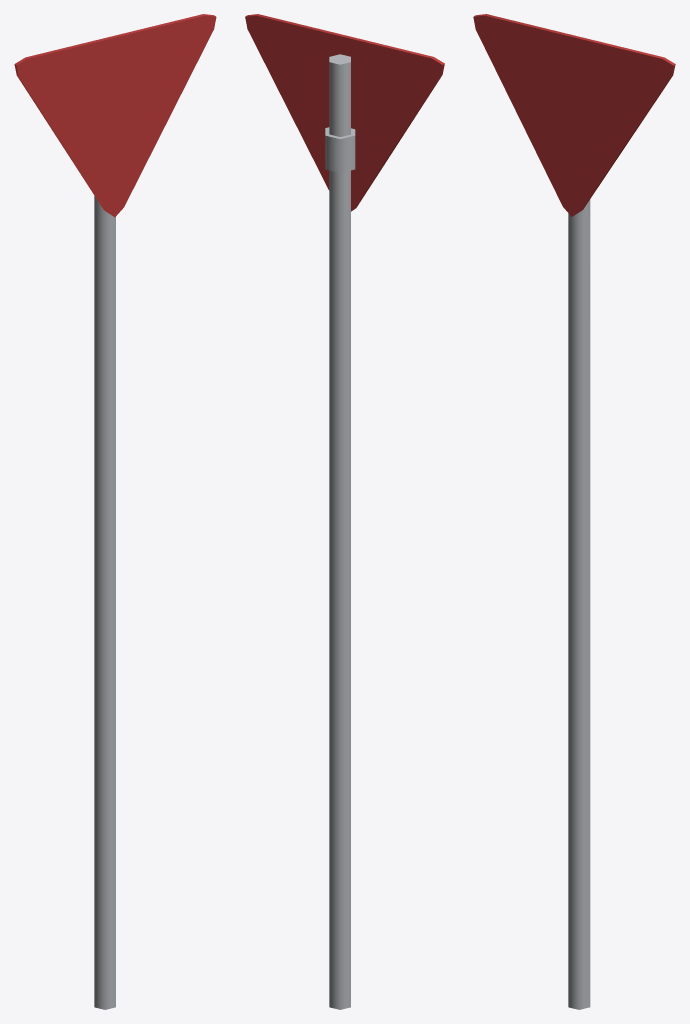
Rendered from SM_roadsign_005.fbx.
The picture shows the model from 3 angles, left to right: view 1: azimuth 30°, elevation 25°; view 2: azimuth 150°, elevation 25°; view 3: azimuth 330°, elevation 25°; orthographic projection.
Parts seen in each view (by area): view 1: Cylinder043; view 2: Cylinder043; view 3: Cylinder043.
Part boxes in pixels (x1=…): Cylinder043: x1=14, y1=14, x2=216, y2=1009; Cylinder043: x1=245, y1=14, x2=444, y2=1009; Cylinder043: x1=473, y1=14, x2=675, y2=1009.
Size of the model in its own units: 26.93 by 125 by 3.79.
